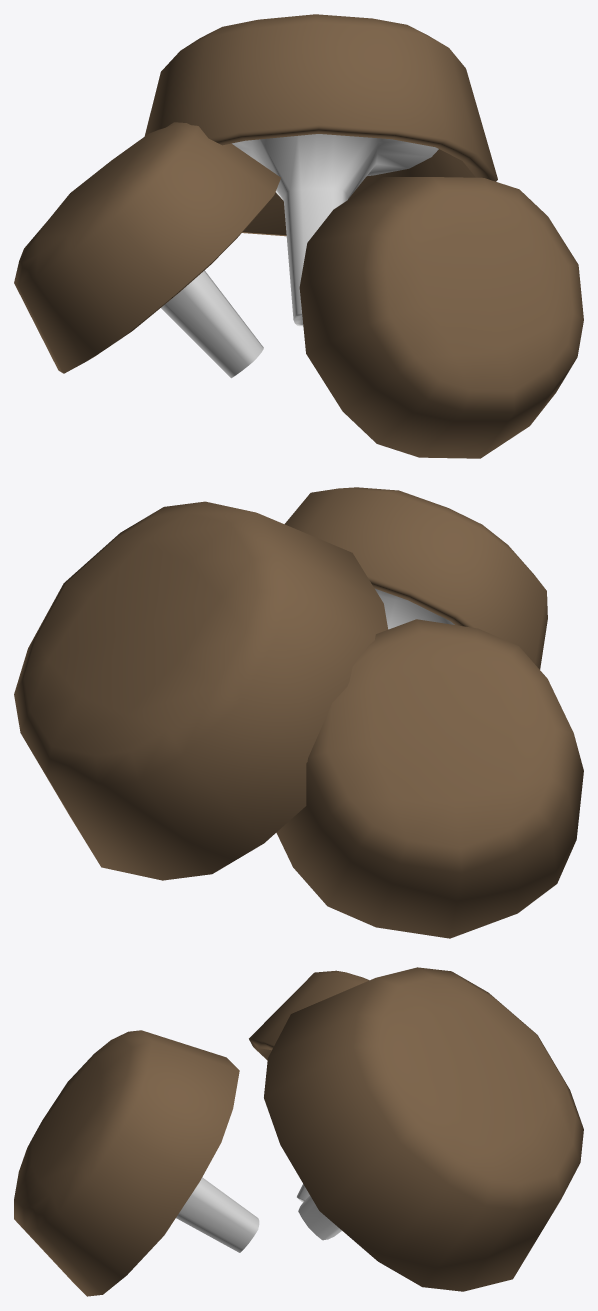
The model's file is mushrooms.fbx.
3 views of the same model, one above another, from view 1: azimuth 30°, elevation 25°; view 2: azimuth 150°, elevation 25°; view 3: azimuth 270°, elevation 25° (orthographic). The views are drawn at different scales.
Visible parts, largest first — view 1: Cube.002, Cube, Cube.001; view 2: Cube, Cube.001, Cube.002; view 3: Cube, Cube.002, Cube.001.
Part boxes in pixels (<box>): Cube.002: <box>299,177,583,458</box>; Cube: <box>145,14,497,326</box>; Cube.001: <box>14,122,280,378</box>; Cube: <box>14,501,388,880</box>; Cube.001: <box>276,619,583,938</box>; Cube.002: <box>285,487,547,669</box>; Cube: <box>264,967,583,1291</box>; Cube.002: <box>14,1030,259,1296</box>; Cube.001: <box>249,970,369,1202</box>.
Bounding box in the file's own units: 119 × 103 × 69.79.
